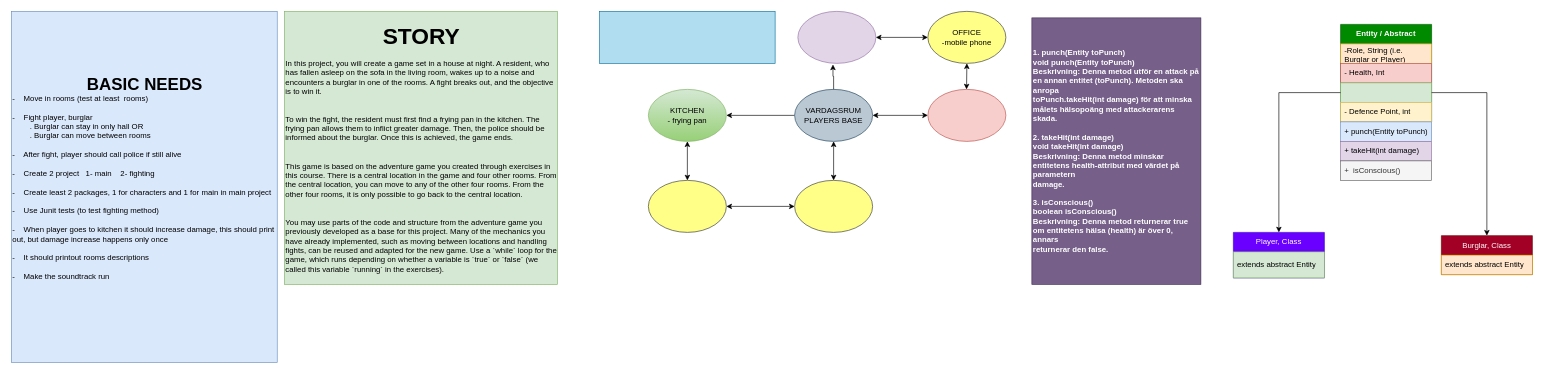
Image size: 1544x374. Some labels were removed from this diagram. The shapes that lost their labels are listed below. From the top down, each one's centre as x and y in pixels, then its label:
(x=687, y=37): (ROOMS)
(x=836, y=37): BATHROOM - scissor
(x=1386, y=92): - Attack Point, int
(x=966, y=115): HALL
(x=687, y=206): HALL-2
(x=833, y=206): SOVRUM
